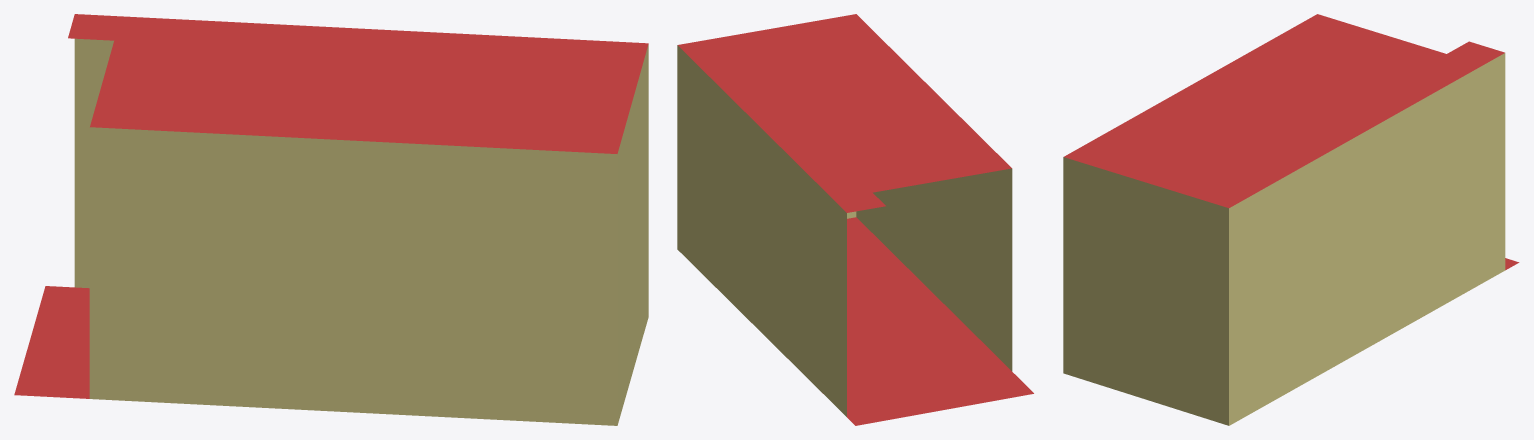
3 renders of one model, left to right at view 1: azimuth 30°, elevation 25°; view 2: azimuth 150°, elevation 25°; view 3: azimuth 270°, elevation 25°, orthographic. The views are drawn at different scales.
Parts seen in each view (by area): view 1: group_4, group_3, group_5; view 2: group_4, group_3, group_5; view 3: group_4, group_3.
Boxes of the visible parts, x1,y1,x2,y2 form: group_4: (74, 38, 648, 425); group_3: (68, 14, 648, 153); group_5: (14, 286, 89, 398); group_4: (677, 45, 1012, 416); group_3: (678, 14, 1011, 212); group_5: (787, 217, 1033, 425); group_4: (1063, 53, 1505, 425); group_3: (1064, 14, 1504, 207).
Bounding box in the file's own units: 12.49 × 11.14 × 5.87.
